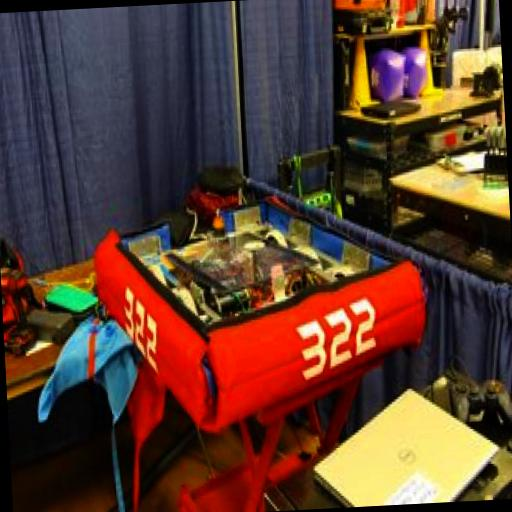robot: (94, 190, 438, 440)
